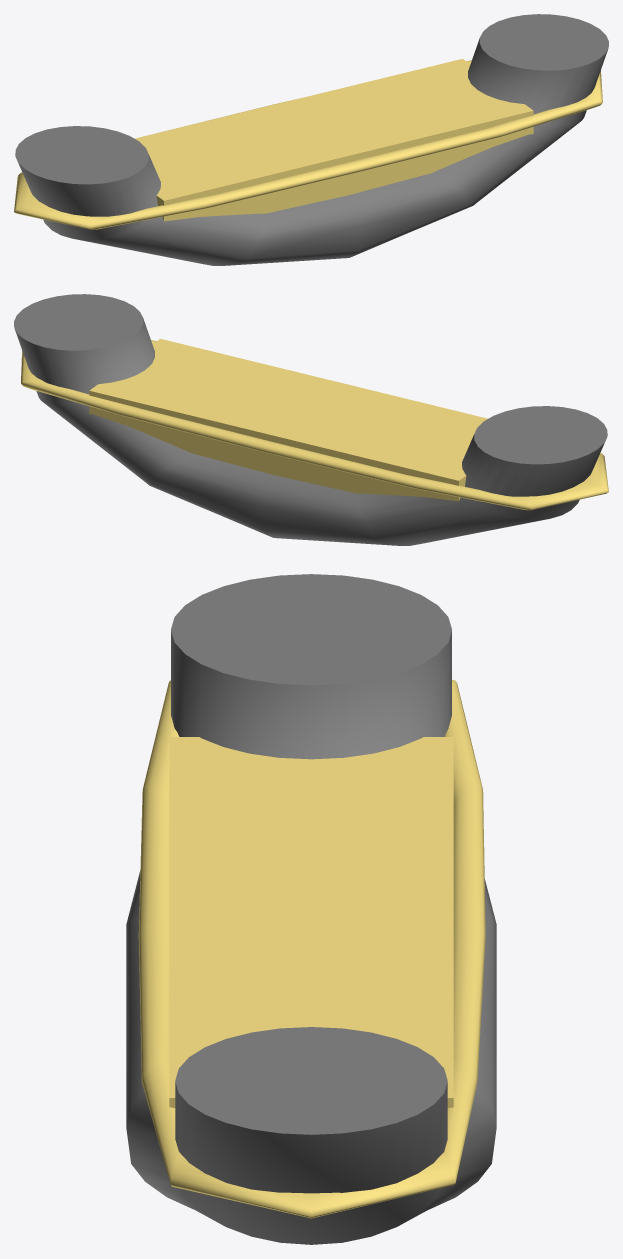
File: 大刷子.fbx
The picture shows the model from 3 angles, top to bottom: view 1: azimuth 30°, elevation 25°; view 2: azimuth 150°, elevation 25°; view 3: azimuth 270°, elevation 25°; orthographic projection. The views are drawn at different scales.
Parts seen in each view (by area): view 1: Box003; view 2: Box003; view 3: Box003.
Boxes of the visible parts, left/top/right/bottom form: Box003: left=14, top=14, right=608, bottom=265; Box003: left=14, top=294, right=608, bottom=545; Box003: left=126, top=574, right=496, bottom=1244.
Size of the model in its own units: 65.61 by 15.6 by 17.94.
